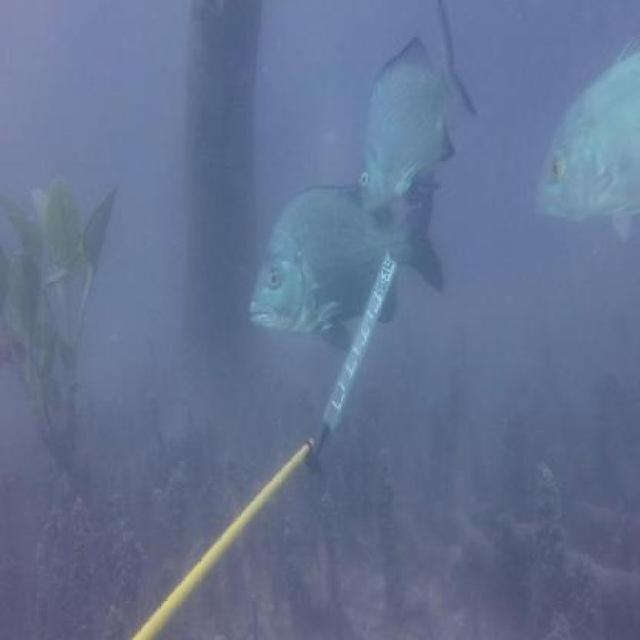Caranx: (532, 36, 640, 250)
acanthopagrus_palmaris: (247, 175, 451, 358), (356, 1, 478, 216)
